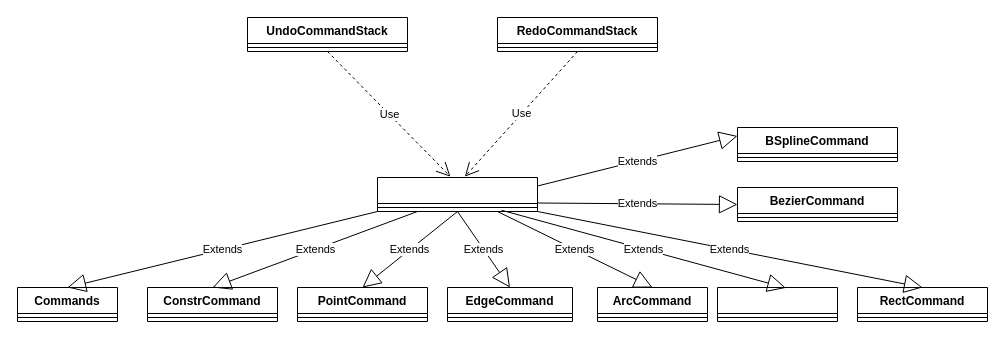
Some shapes in this 1005 by 339 pixel diagram are drawn without their labels. Each missing label, with the centre of its shape:
CircleCommand: (x=777, y=304)
Command: (x=457, y=194)
